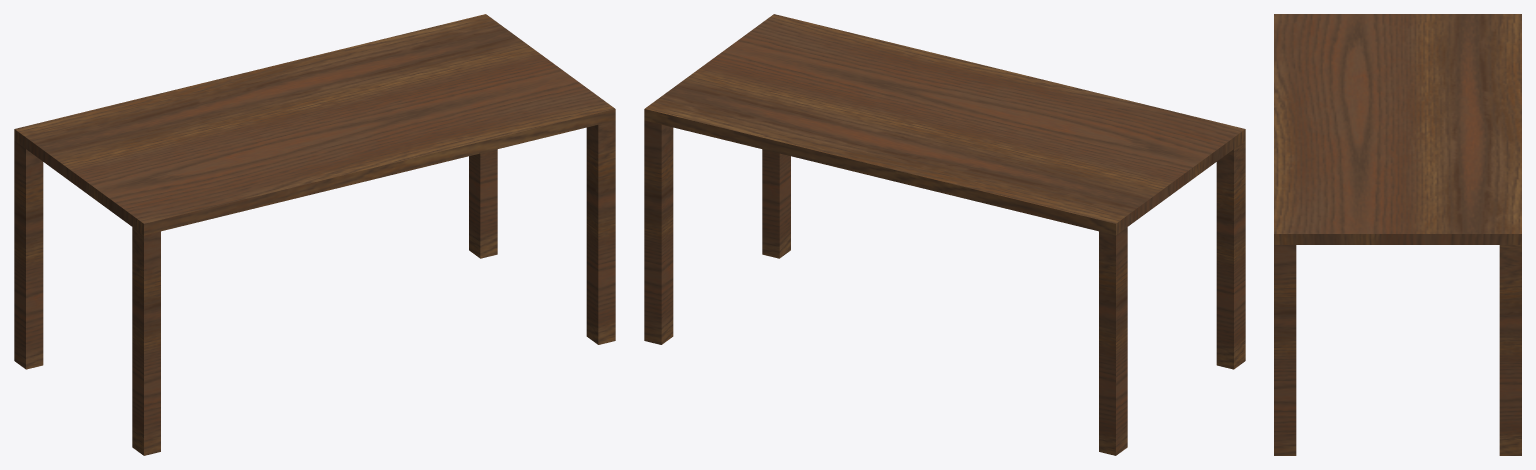
File: Table.fbx
3 renders of one model, left to right at view 1: azimuth 30°, elevation 25°; view 2: azimuth 150°, elevation 25°; view 3: azimuth 270°, elevation 25°, orthographic. The views are drawn at different scales.
Visible parts, largest first — view 1: Table; view 2: Table; view 3: Table.
Part boxes in pixels (<box>): Table: <box>14,14,615,455</box>; Table: <box>644,14,1245,455</box>; Table: <box>1274,14,1521,455</box>.
Size of the model in its own units: 1.68 by 0.789 by 0.7987.
